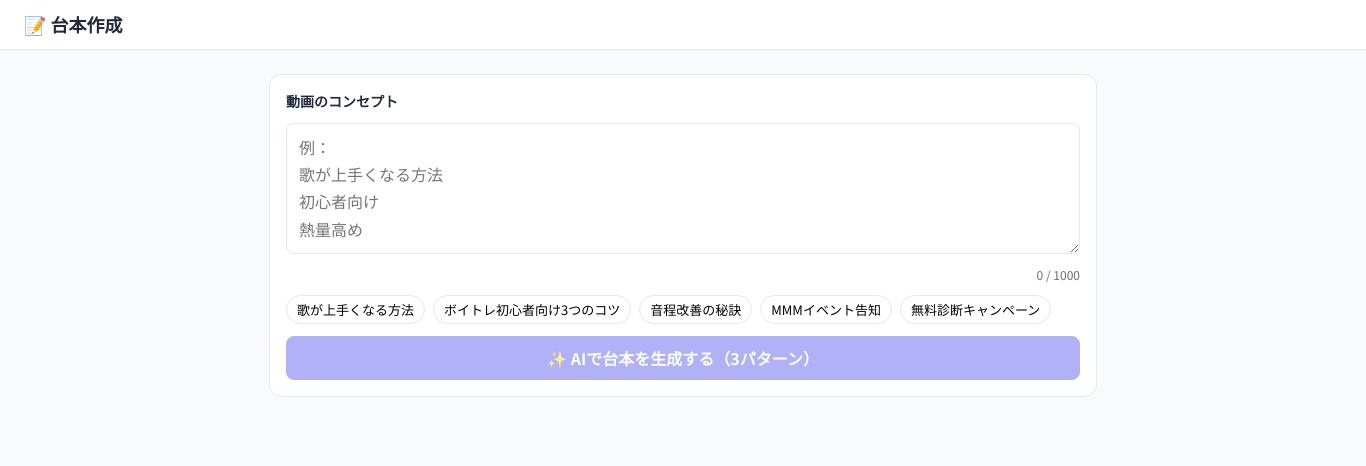
Test: ScriptMode › 通信失敗・非JSON応答でも分かりやすいエラーを出す
Step 1. Type "a" into the text box labelled "動画のコンセプト" → [683, 188], box [286,123,1080,254]
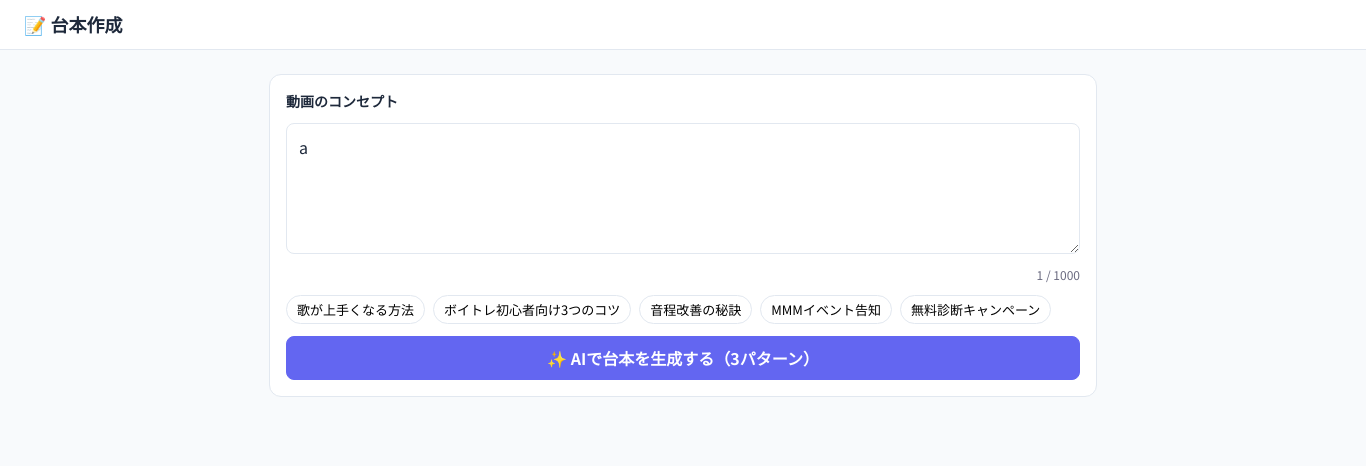
Step 2. Click the button "✨ AIで台本を生成する（3パターン）" → [683, 358], box [286,336,1080,380]
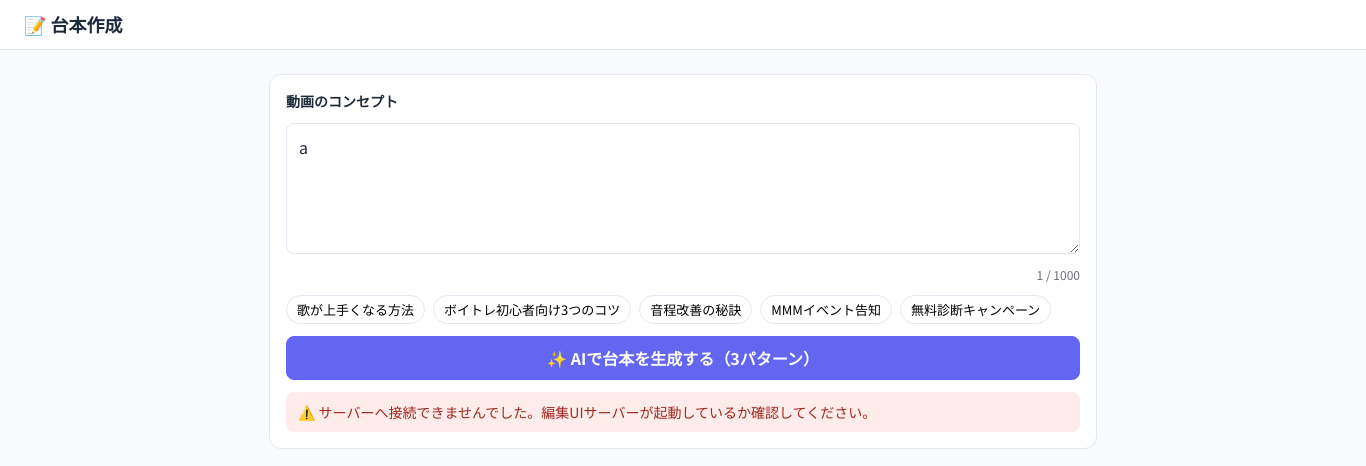
Check: the message shows "接続できませんでした", box [319,402,876,422]
Step 3. Click the button "✨ AIで台本を生成する（3パターン）" → [683, 358], box [286,336,1080,380]
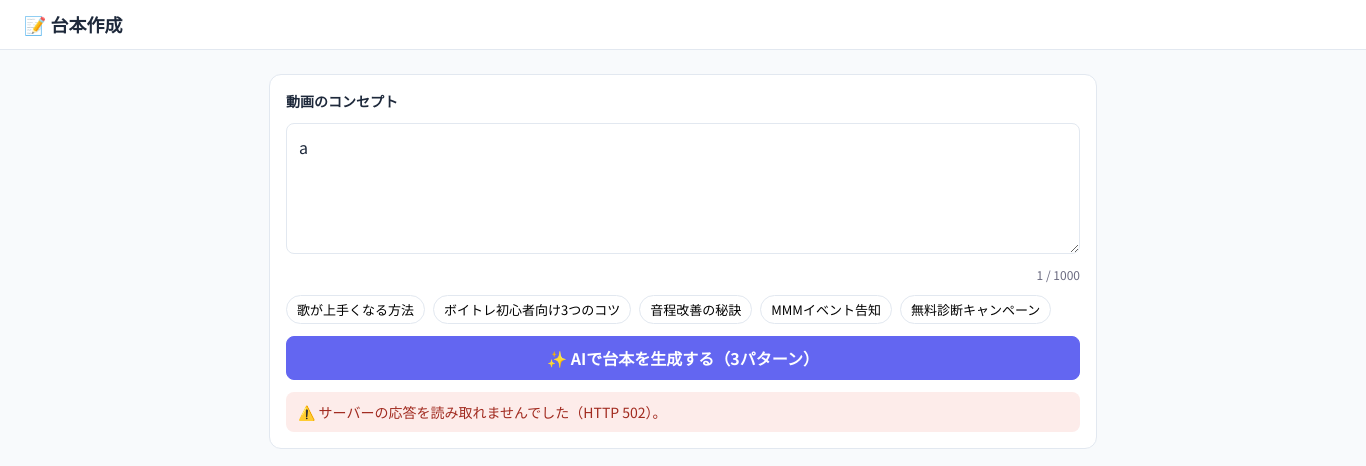
Check: the message shows "HTTP 502", box [319,402,667,422]
